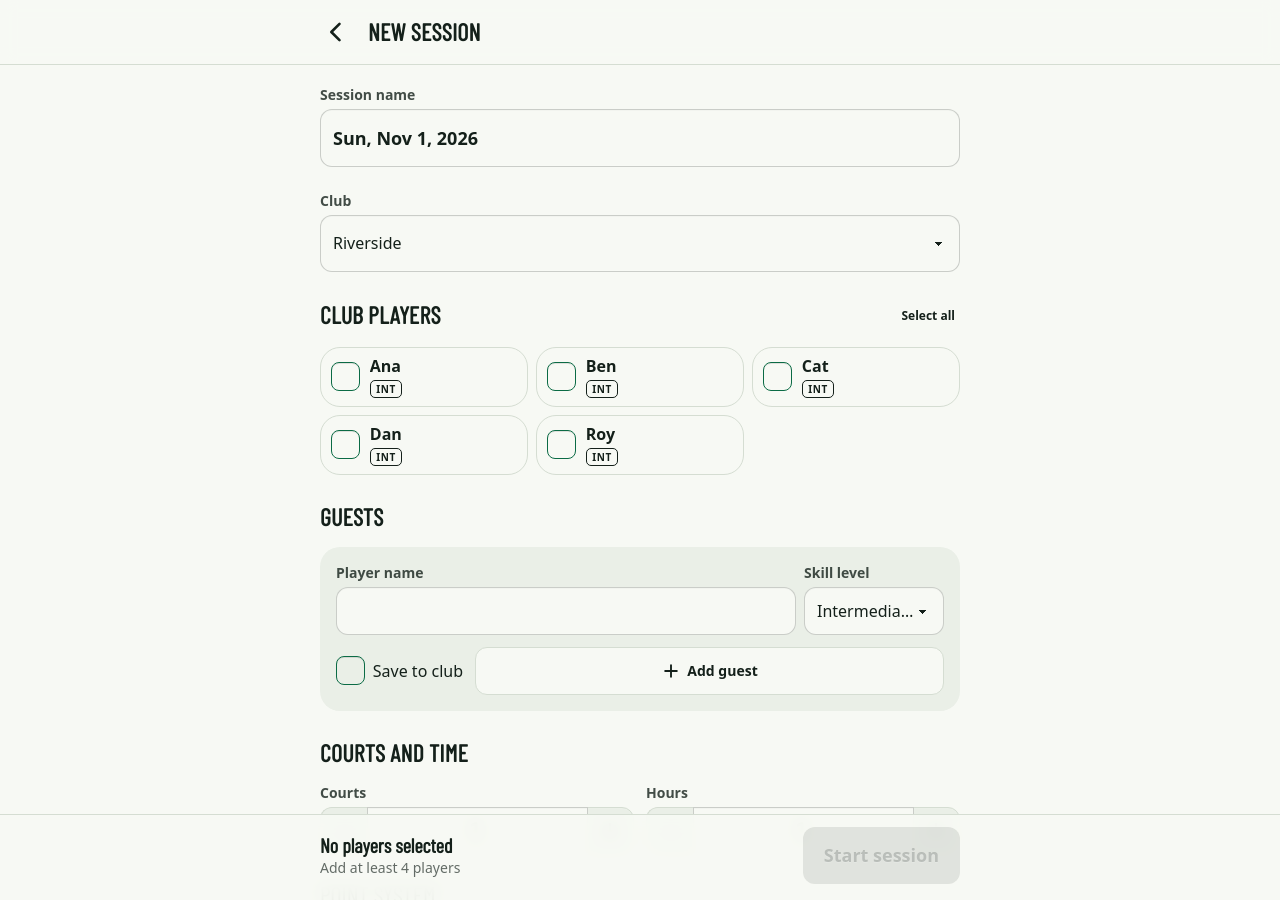
Scenario: New session with a Shared club: starting › shows it's busy while the server answers, and on failure goes back to normal with the error
What coordinates should you click on to do the following:
click the button "Select all"
I would click on:
 (928, 315)
Its box is [888, 296, 968, 335].
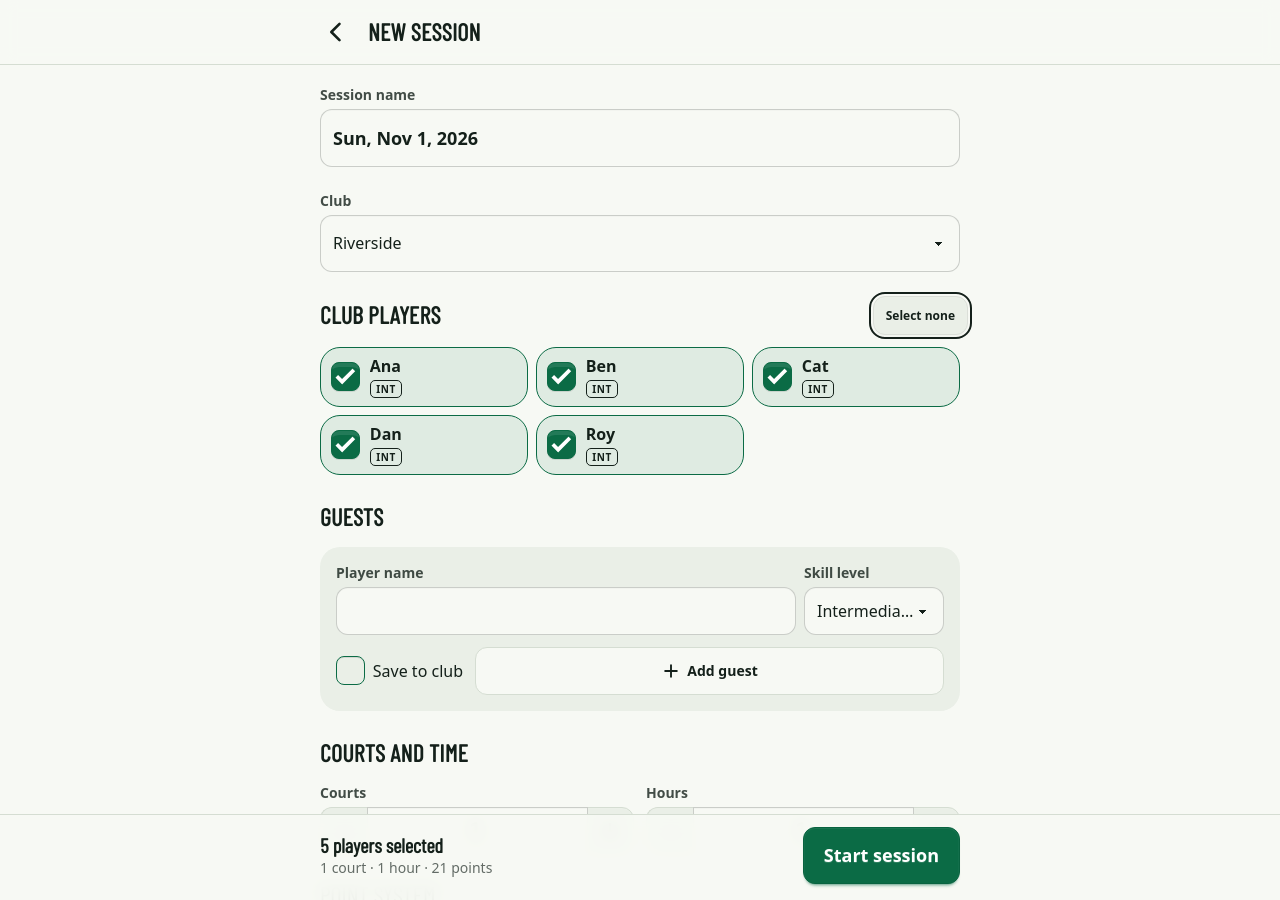
What coordinates should you click on to do the following:
click the button "Start session"
I would click on:
 (881, 855)
Its box is [803, 826, 960, 884].
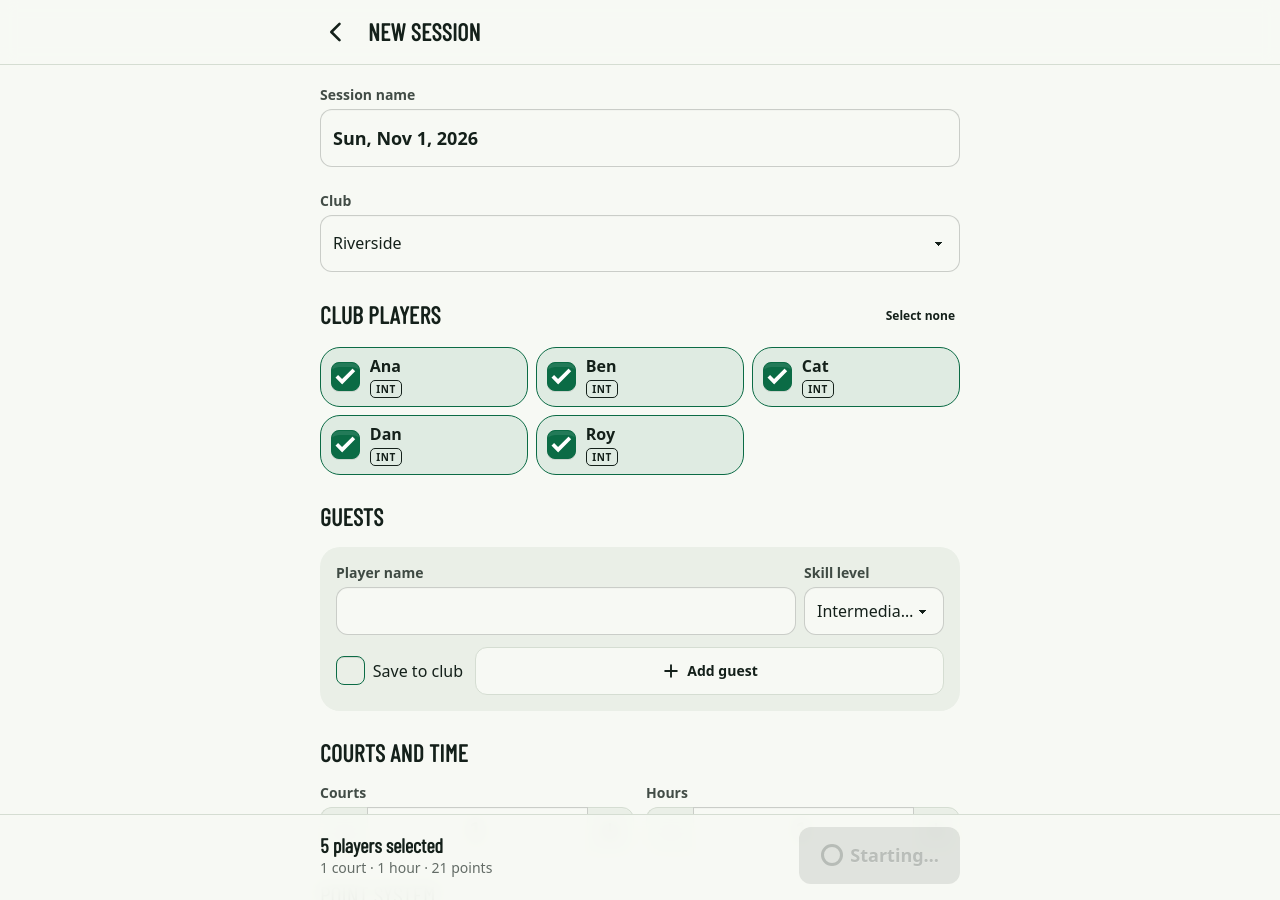
Expected: the button "Starting…" is disabled, [799, 826, 960, 884]
What coordinates should you click on to do the following:
click the button named "Back"
I would click on:
 (336, 32)
Its box is [312, 8, 360, 56].
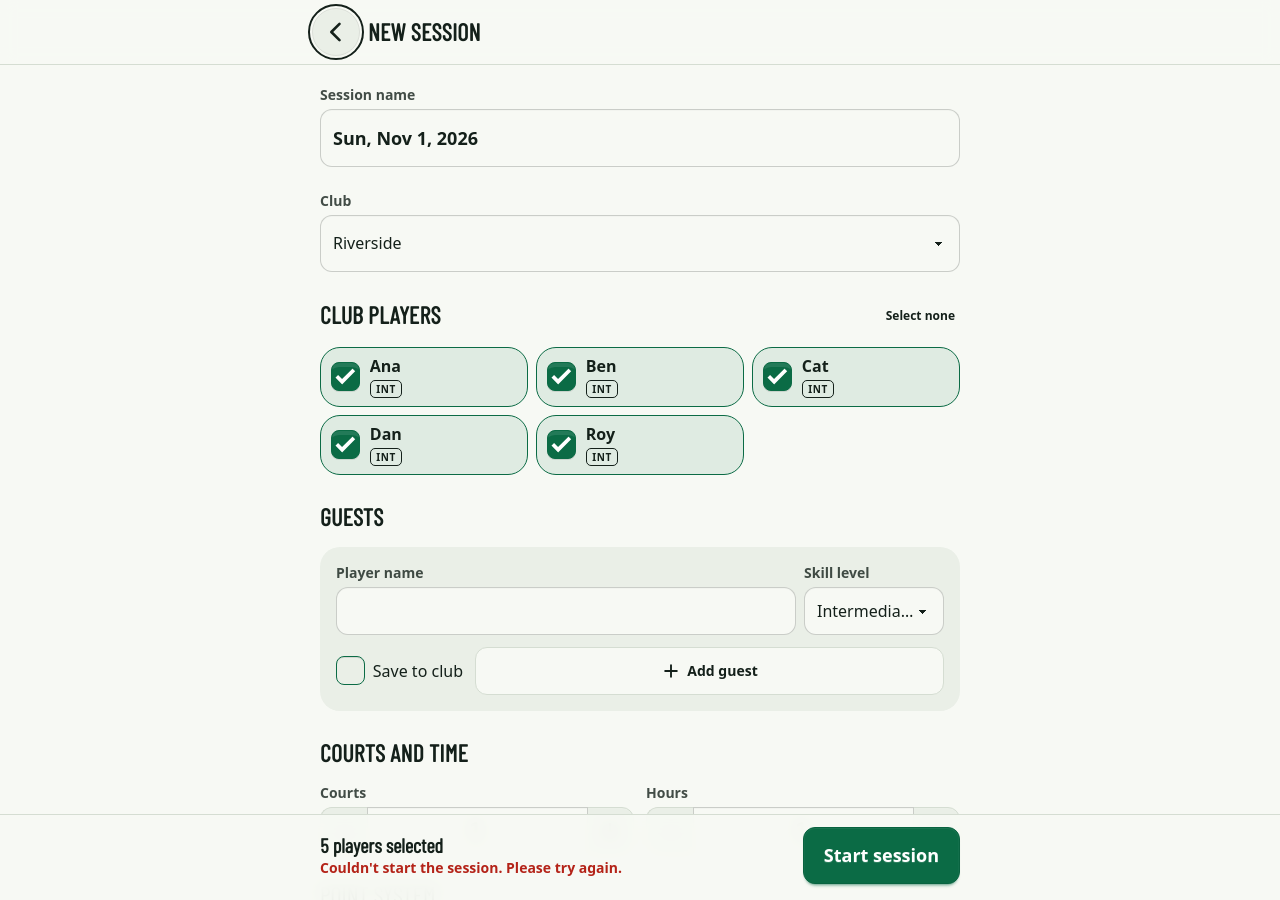
Expected: the message shows "Couldn't start the session.", [320, 858, 622, 877]
Expected: the button "Start session" is enabled, [803, 826, 960, 884]
Expected: the button "Starting…" is gone
